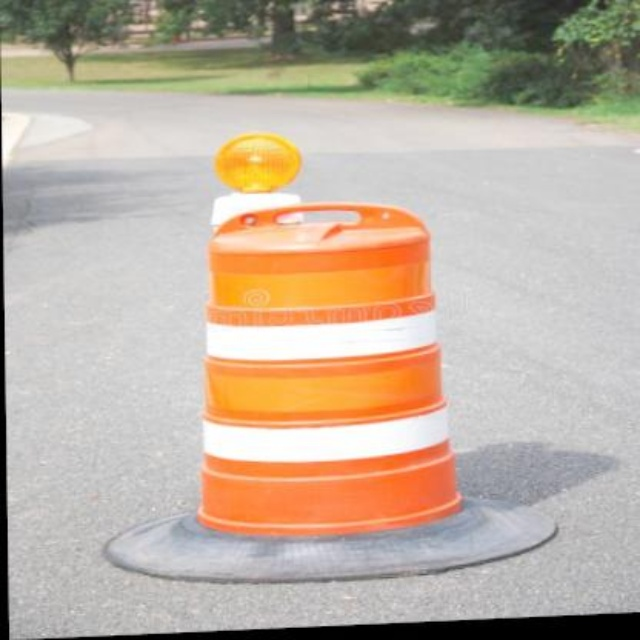obstacle: (183, 208, 457, 559)
